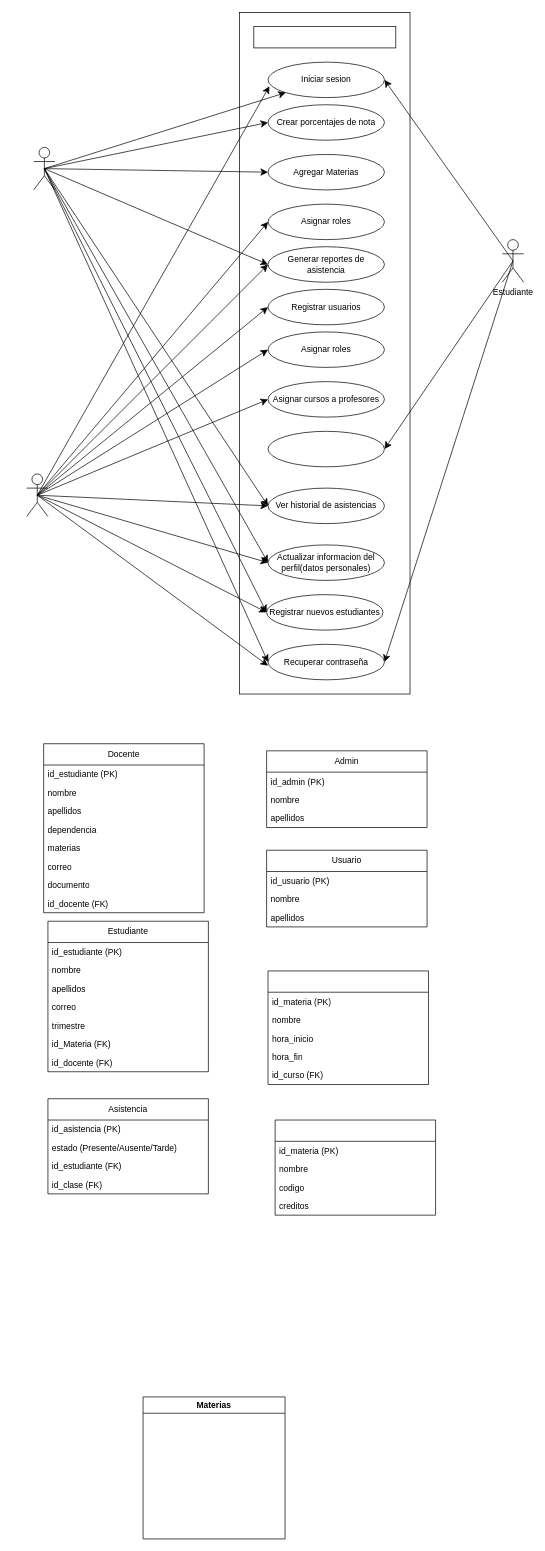
Some shapes in this 545 by 1551 pixel diagram are drawn without their labels. Each missing label, with the box of its shape:
Admnistrador: (26, 473, 48, 517)
Curso: (274, 1119, 436, 1215)
Marcar asistencia: (267, 431, 384, 467)
Materias (Clase): (267, 970, 428, 1085)
Profesor: (33, 147, 55, 190)
TRAKZEN: (253, 26, 396, 48)
